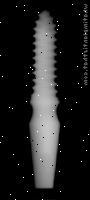Osstem Implant: (29, 9, 60, 189)
